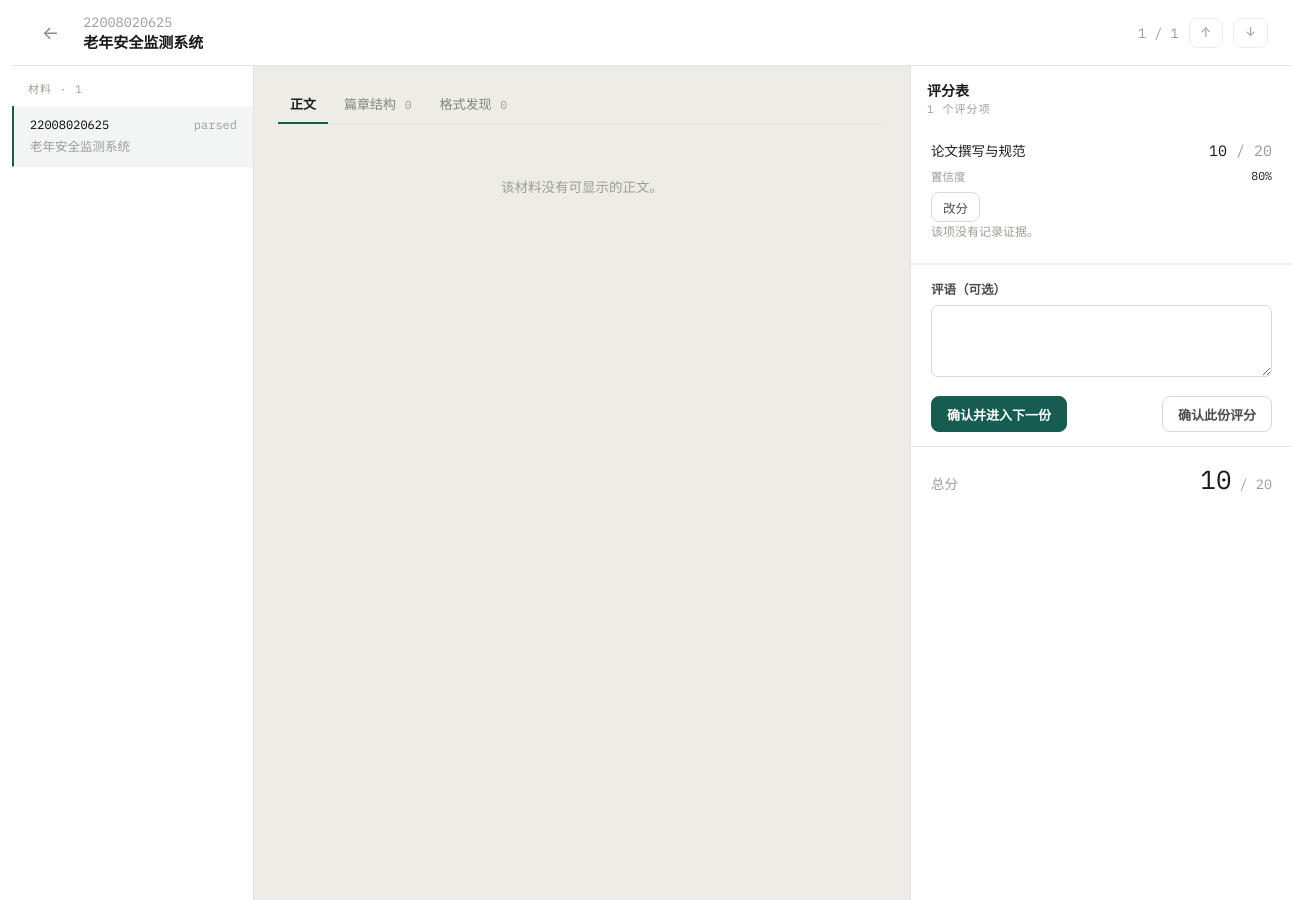
Scenario: 分数越界当场拦下，不发请求
Click the button with class "edit-trigger". click: (956, 207)
box: [931, 192, 980, 222]
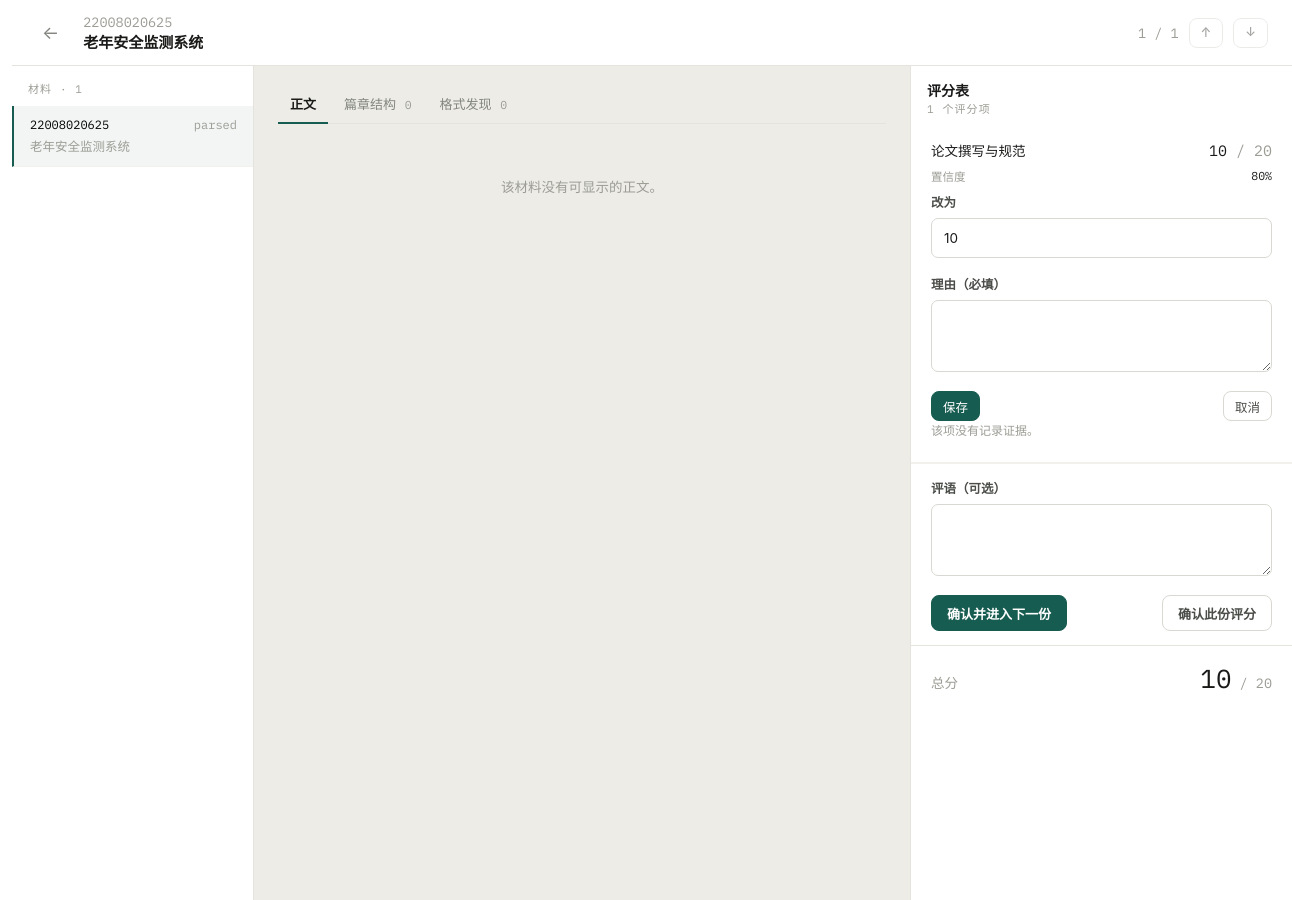
Replace the text in the number field labelled "改为" with "25". click: (1102, 238)
box: [931, 218, 1272, 258]
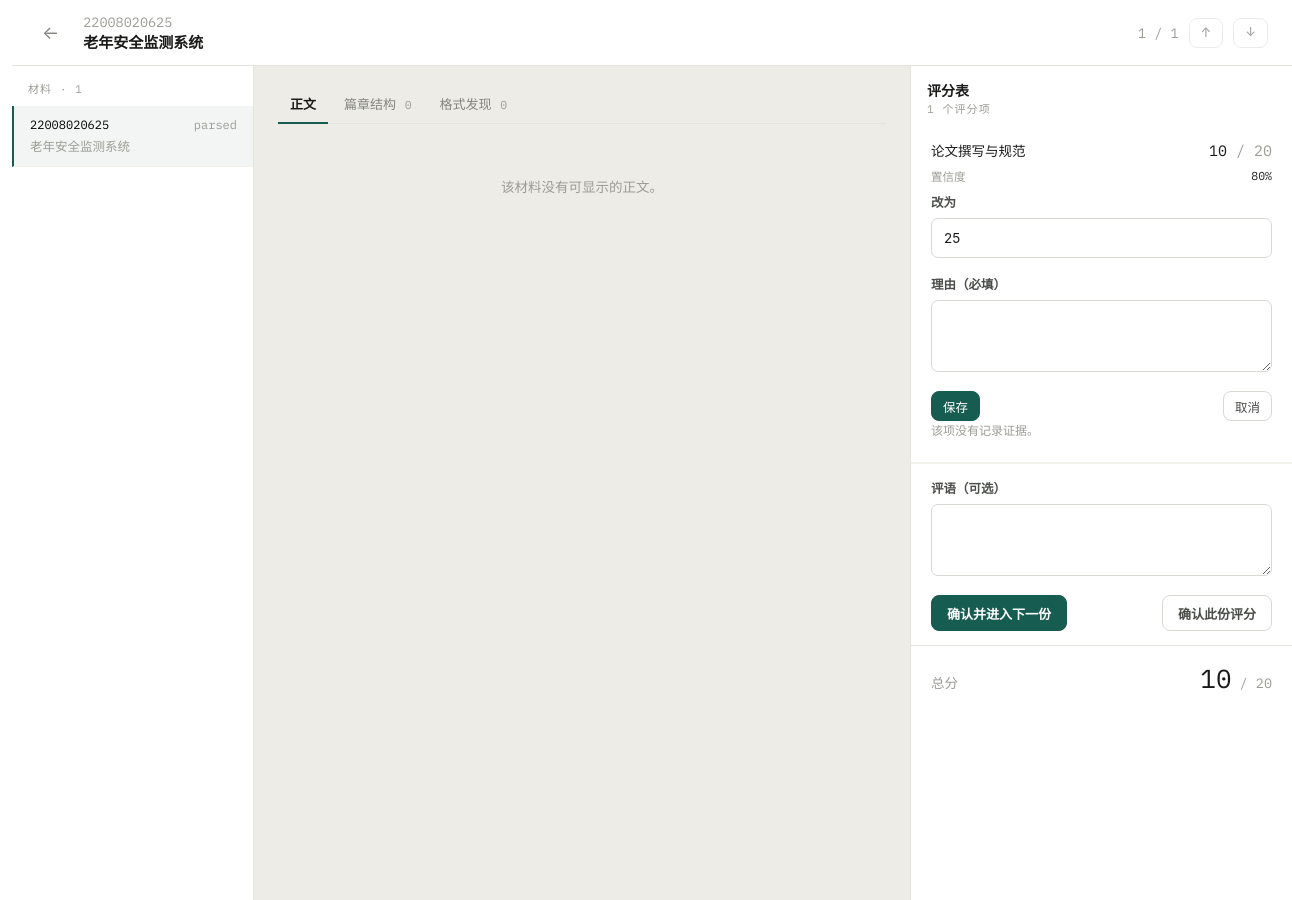
Type "复核后调整" into the text box labelled "理由（必填）". click: (1102, 336)
box: [931, 300, 1272, 372]
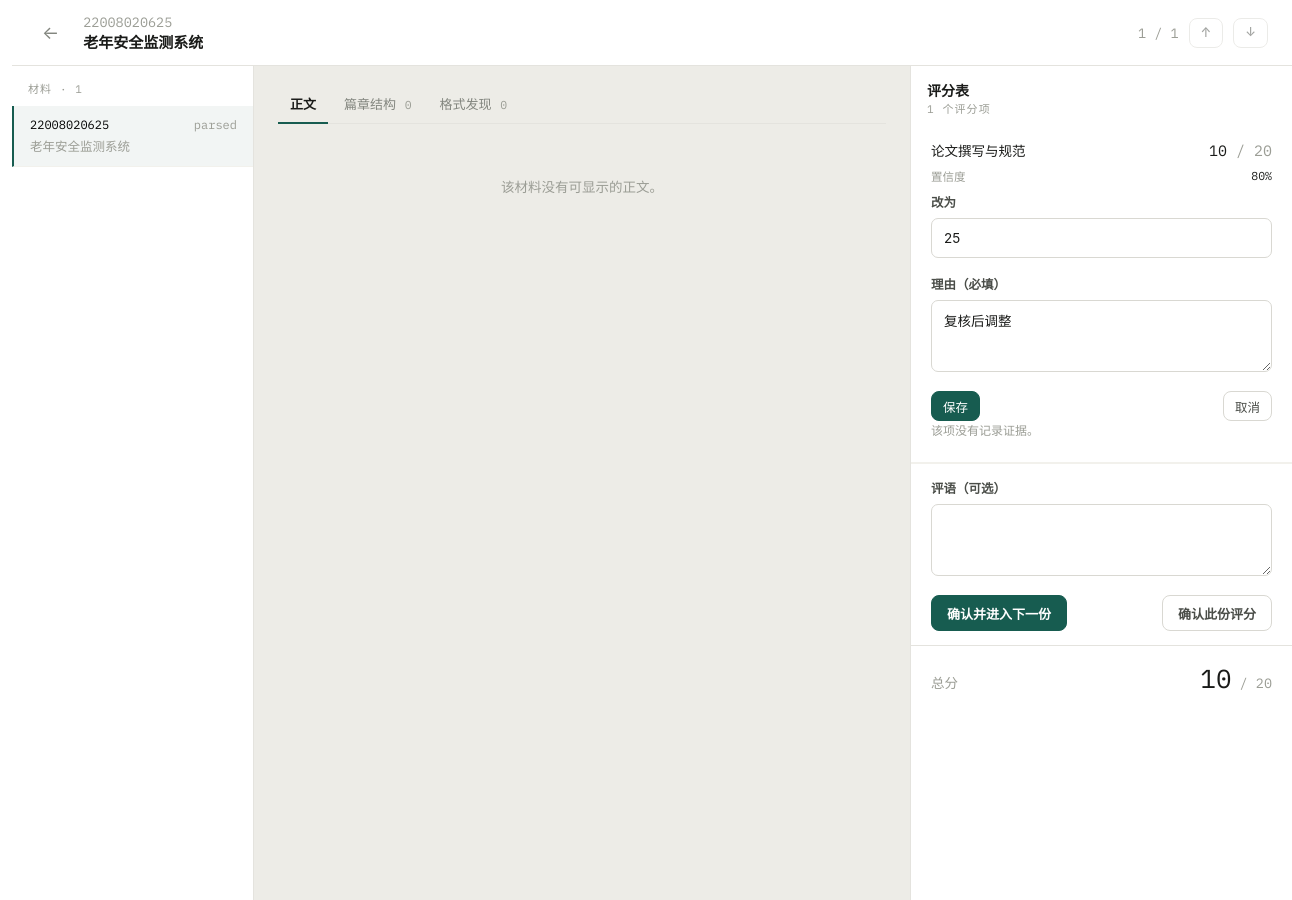
Click the button "保存". click: (956, 406)
box: [931, 391, 980, 421]
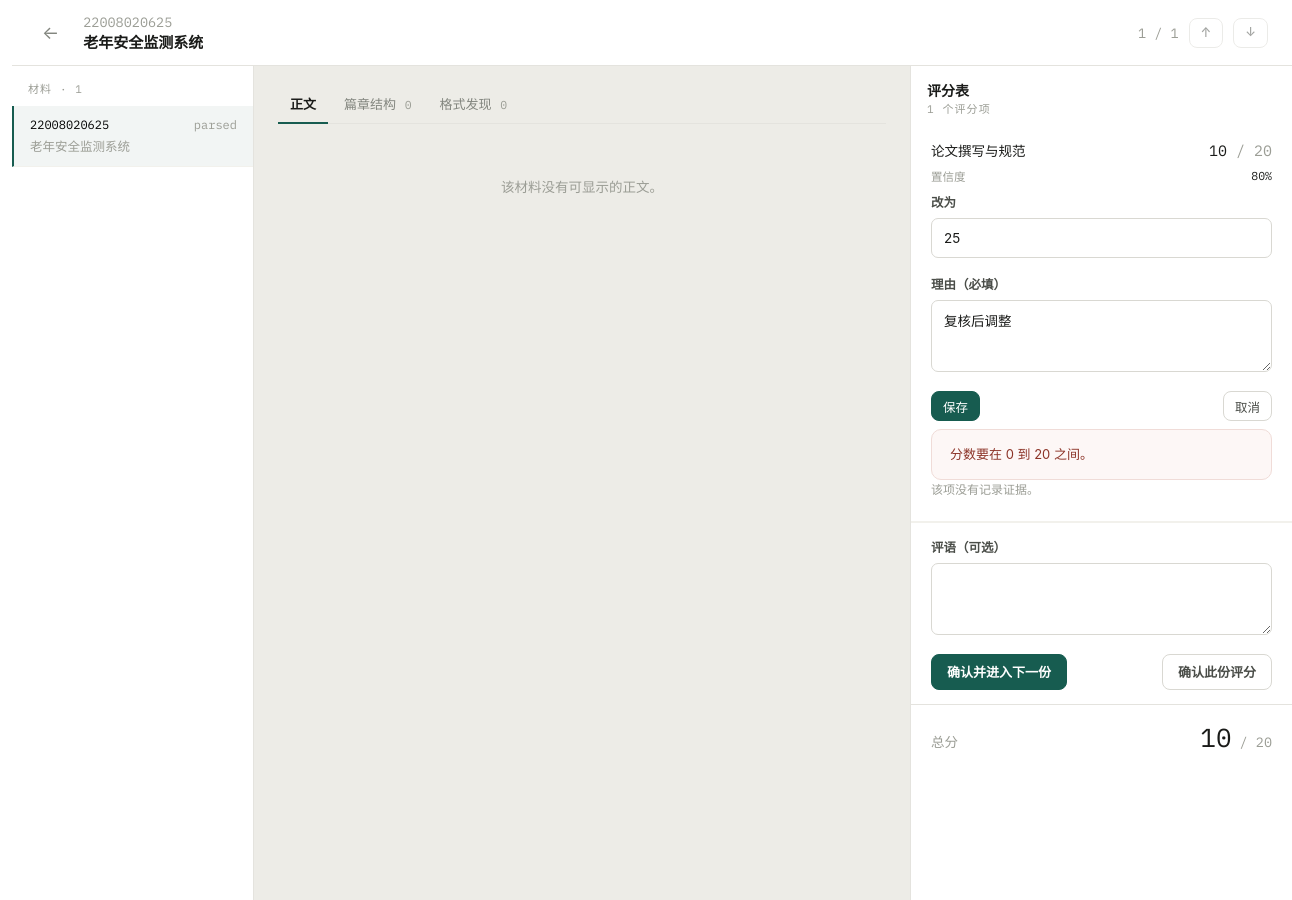
Expected: the message with test id "edit-error" reads "分数要在 0 到 20 之间。", [950, 446, 1093, 462]
